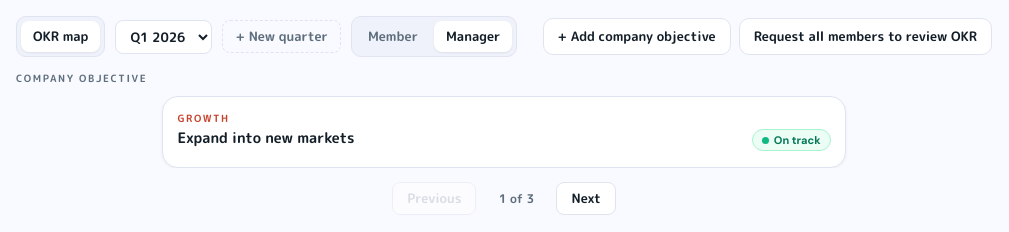
Test: OkrMapPage › carousel navigation › advances to the next objective when Next is clicked
Click the button "Next".
click(586, 198)  # box [556,182,616,215]
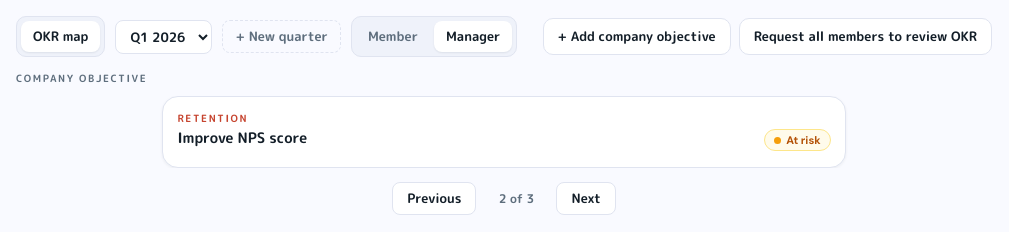
Now the text "Improve NPS score" is shown, box [177,127,307,148]
Now the text "Expand into new markets" is gone
Now the text "2 of 3" is shown, box [499,190,534,206]
